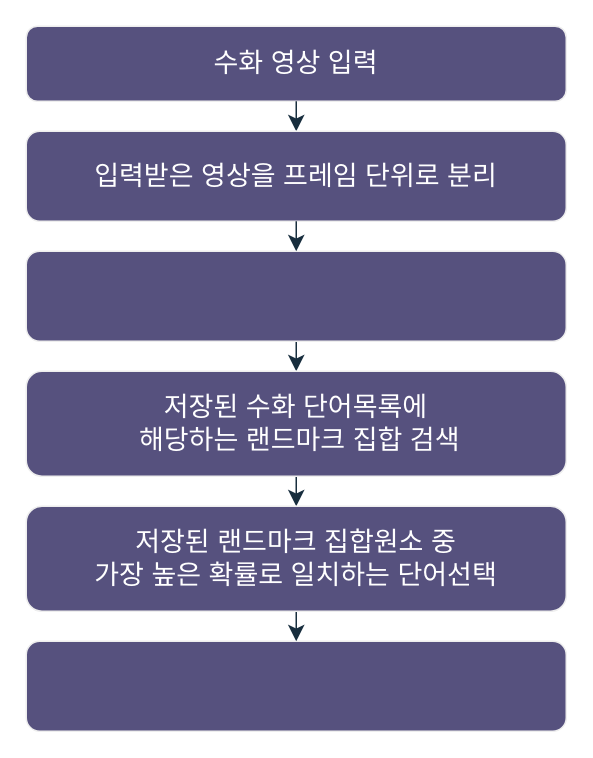
This 593x758 diagram has some shape labels left out. The shapes that lost their labels are listed below. From the top down, each one's centre as x and y in pixels, then its label:
At pixel 295 295: "MediaPipe Hands를 이용한 영상 손가락의 랜드마크 추출".
At pixel 295 685: "가장 높은 확률로 부합하는 단어 반환".
